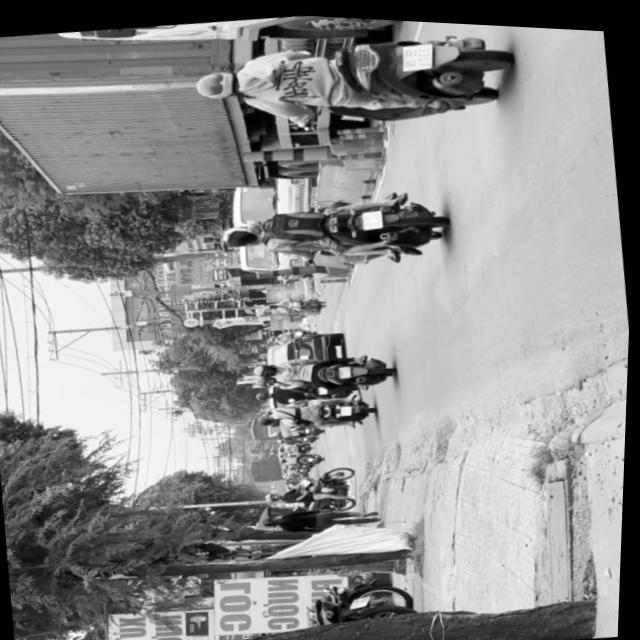helmet: (191, 64, 240, 99)
licenseplate: (185, 8, 517, 145), (214, 173, 451, 280)
motorcyclist: (222, 220, 263, 248)
nohelmet: (398, 37, 434, 68), (361, 205, 384, 226)
